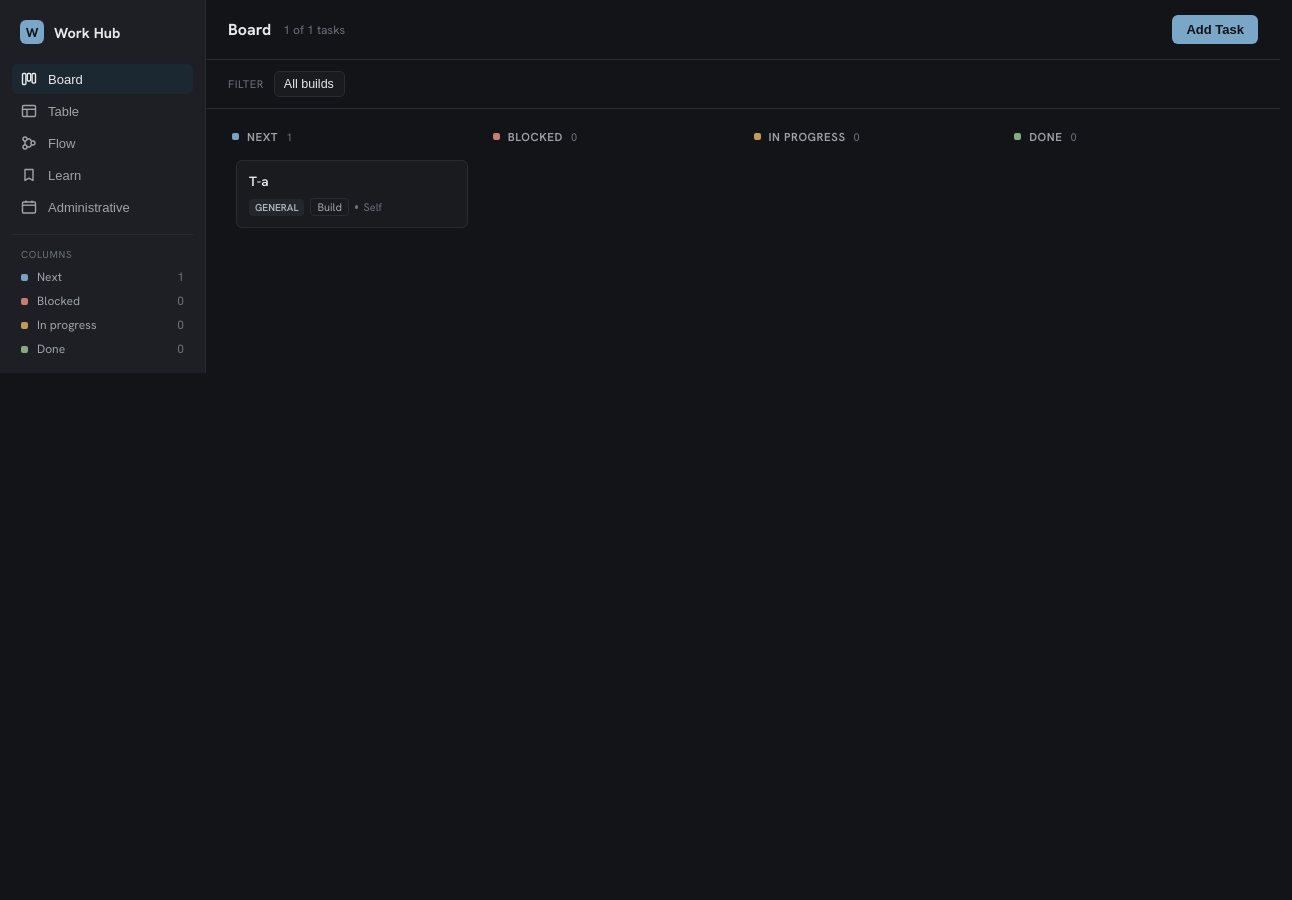
AppClient optimistic move › renders the flow canvas when the Flow nav item is clicked
The image size is (1292, 900).
Click the button "Flow".
click(102, 143)  # box [12, 128, 193, 158]
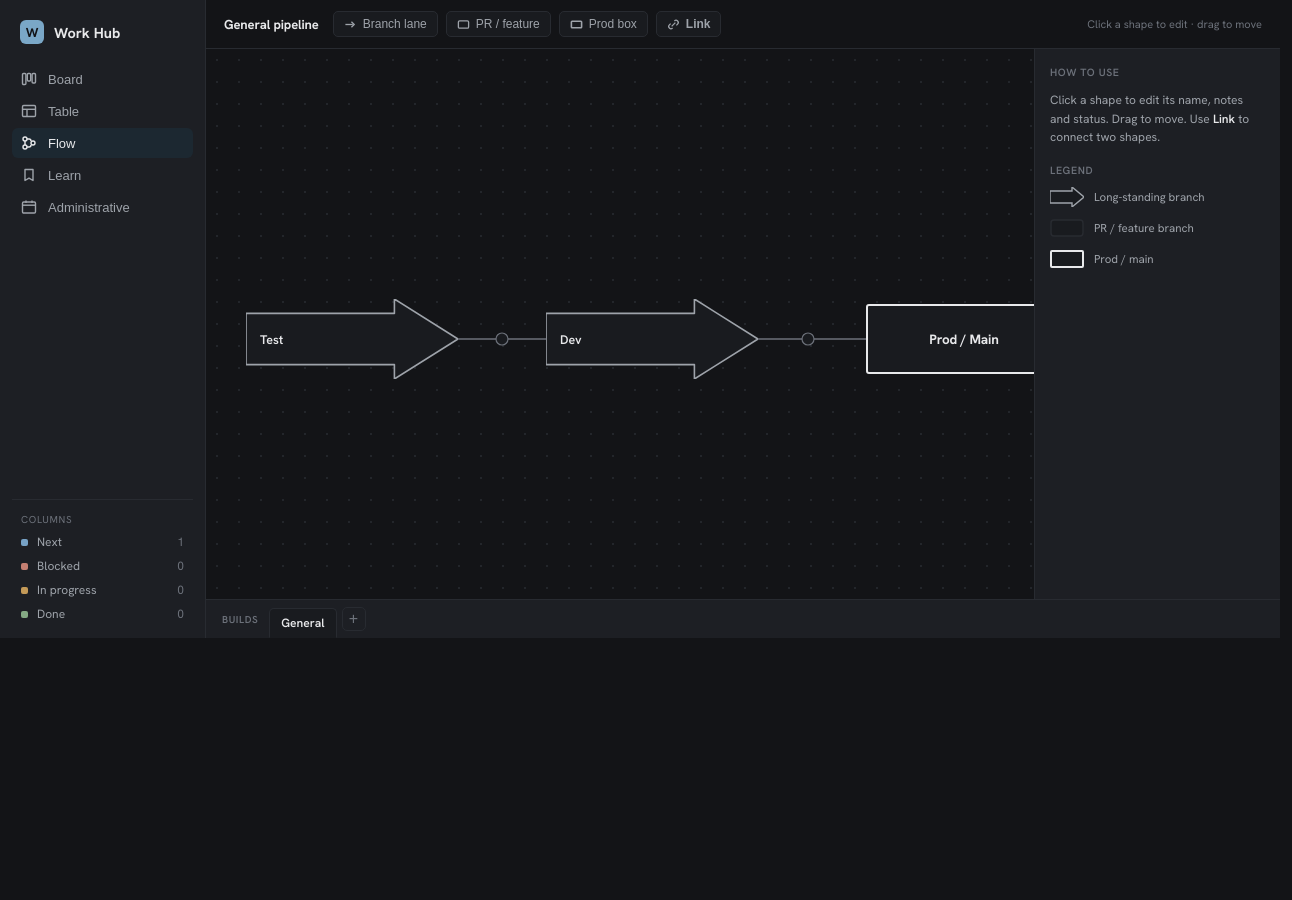
Expected: the text "Test" is shown, [260, 330, 283, 348]
